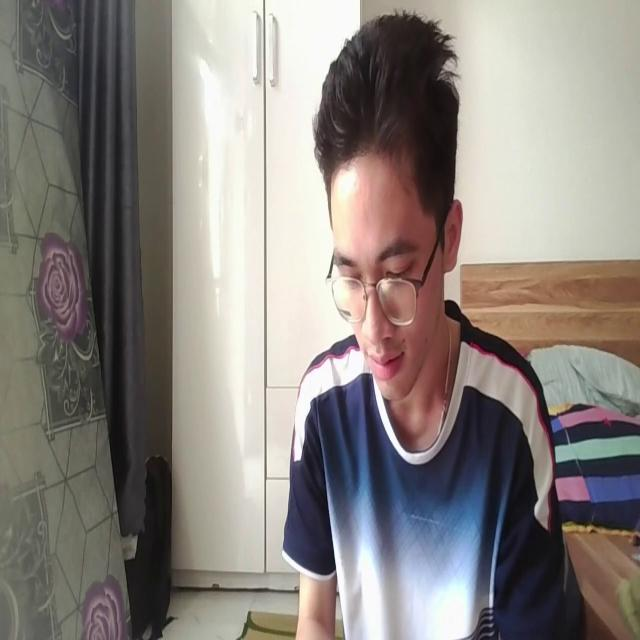student: (280, 10, 577, 640)
